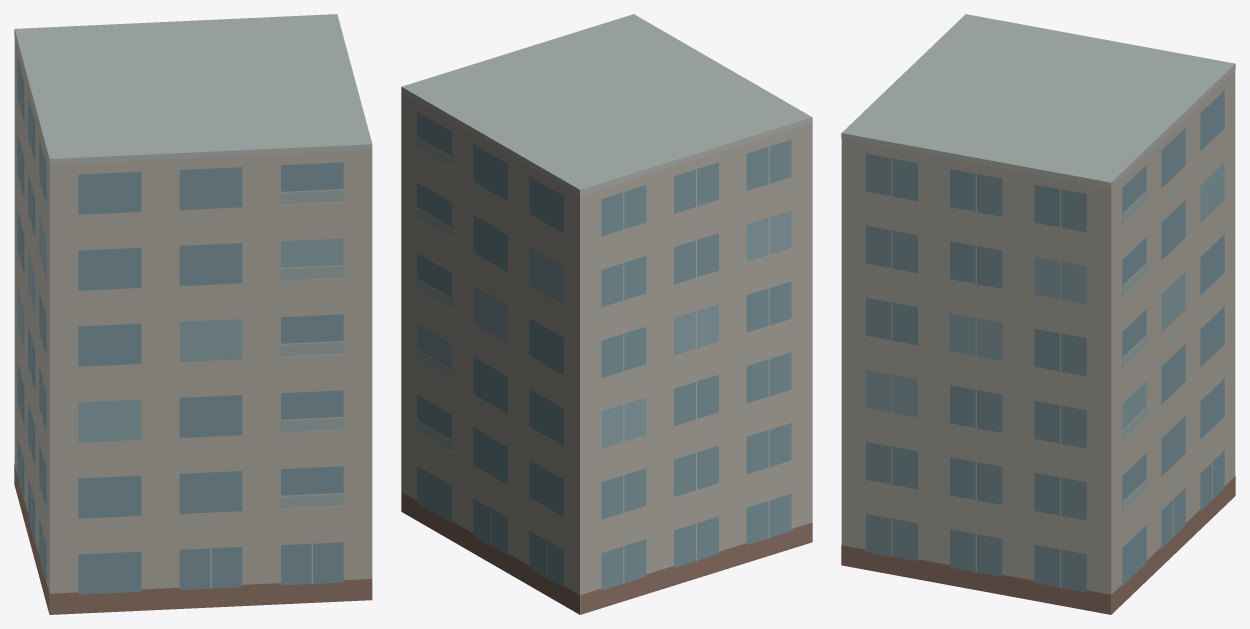
File: survey-upis-32531312.glb
3 views of the same model, side by side, from view 1: azimuth 30°, elevation 25°; view 2: azimuth 150°, elevation 25°; view 3: azimuth 270°, elevation 25° (orthographic). The views are drawn at different scales.
Parts seen in each view (by area): view 1: survey-upis-32531312.tmp; view 2: survey-upis-32531312.tmp; view 3: survey-upis-32531312.tmp.
Boxes of the visible parts, x1=… form: survey-upis-32531312.tmp: x1=14, y1=14, x2=372, y2=614; survey-upis-32531312.tmp: x1=401, y1=14, x2=812, y2=614; survey-upis-32531312.tmp: x1=841, y1=14, x2=1235, y2=614.
Size of the model in its own units: 15.49 by 18.5 by 15.29.
